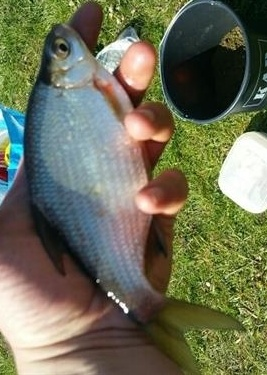Blicca bjoerkna: (20, 20, 247, 375)
